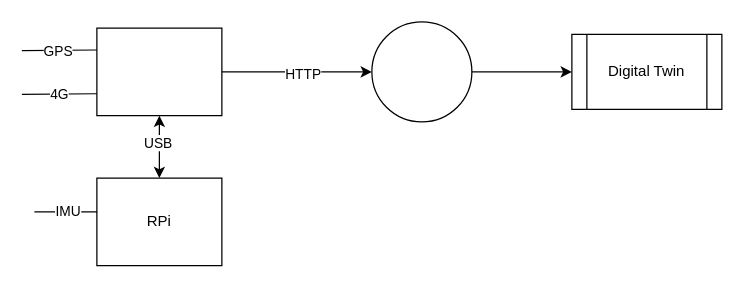
This 744x288 diagram has some shape labels left out. Here are the shapes that lost their labels. From the top down, the centre of each, then its label:
the point at 159,71: 4G HAT
the point at 421,71: Orion CB
